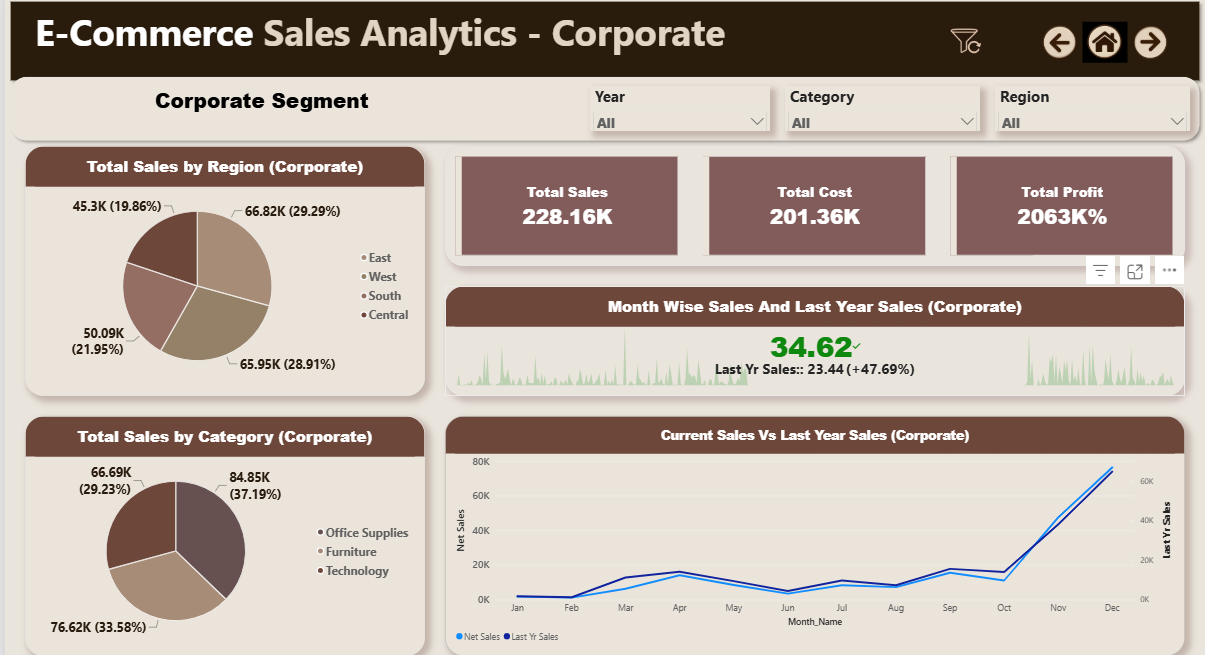

What the dashboard file says about the page in this screenshot:
{"tool":"powerbi","page":{"name":"Corporate Segment","canvas":[1920,1080],"ordinal":7},"visuals":[{"type":"shape","box":[0,0,1920,144],"z":0},{"type":"textbox","box":[0,16,1200,96],"z":1000},{"type":"lineChart","title":"Current Sales Vs Last Year Sales (Corporate)","fields":{"Category":["Calender.Month_Name"],"Y":["All_Measures.Net Sales"],"Y2":["All_Measures.Last Yr Sales"]},"box":[704,672,1184,384],"z":2000},{"type":"shape","box":[0,120,1920,120],"z":3000},{"type":"slicer","fields":{"Values":["Region_Data.Region"]},"box":[1584,144,312,72],"z":4000},{"type":"slicer","fields":{"Values":["Calender.Year"]},"box":[936,144,288,72],"z":5000},{"type":"slicer","fields":{"Values":["Product_Data.Category"]},"box":[1248,144,312,72],"z":6000},{"type":"textbox","box":[240,144,504,72],"z":7000},{"type":"donutChart","title":"Total Sales by Region (Corporate)","fields":{"Category":["Region_Data.Region"],"Y":["All_Measures.Total Sales"]},"box":[32,240,640,400],"z":8000},{"type":"cardVisual","title":"Moving Average Sales by Day","fields":{"Data":["All_Measures.Total Sales","All_Measures.Total Cost","All_Measures.Total Profit"]},"box":[704,240,1184,192],"z":9000},{"type":"donutChart","title":"Total Sales by Category (Corporate)","fields":{"Category":["Product_Data.Category"],"Y":["All_Measures.Total Sales"]},"box":[32,672,640,384],"z":10000},{"type":"kpi","title":"Month Wise Sales And Last Year Sales (Corporate)","fields":{"Goal":["All_Measures.Last Yr Sales"],"Indicator":["All_Measures.Total Sales"],"TrendLine":["Calender.Date"]},"box":[704,464,1184,176],"z":11000},{"type":"image","box":[1488,32,96,80],"z":12000},{"type":"image","box":[1796.4,38,72,72],"z":13000},{"type":"image","box":[1652.4,38,72,72],"z":14000},{"type":"image","box":[1724.4,38,72,72],"z":15000}]}

Visuals, with their boxes on the page's 1920x1080 design canvas (x1, y1, x2, y2). These are canvas units, not pixel positions in the 1205x655 screenshot, which may show the page scaled, cropped or inside an application window:
shape: 0,0,1920,144
textbox: 0,16,1200,112
"Current Sales Vs Last Year Sales (Corporate)" lineChart: 704,672,1888,1056
shape: 0,120,1920,240
slicer - Region_Data.Region: 1584,144,1896,216
slicer - Calender.Year: 936,144,1224,216
slicer - Product_Data.Category: 1248,144,1560,216
textbox: 240,144,744,216
"Total Sales by Region (Corporate)" donutChart: 32,240,672,640
"Moving Average Sales by Day" cardVisual: 704,240,1888,432
"Total Sales by Category (Corporate)" donutChart: 32,672,672,1056
"Month Wise Sales And Last Year Sales (Corporate)" kpi: 704,464,1888,640
image: 1488,32,1584,112
image: 1796,38,1868,110
image: 1652,38,1724,110
image: 1724,38,1796,110
